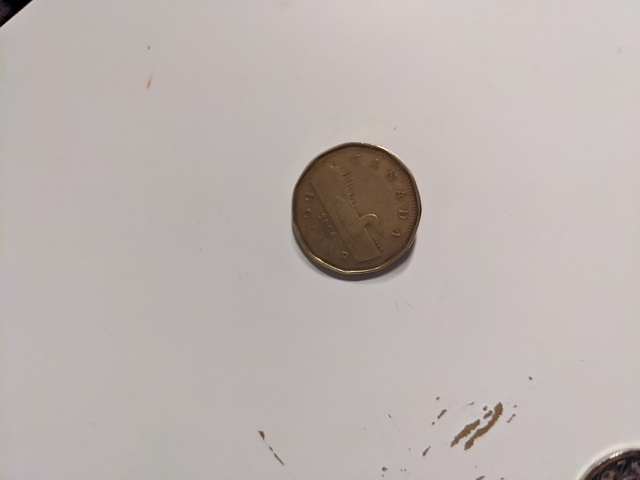loonie: (278, 129, 438, 287)
